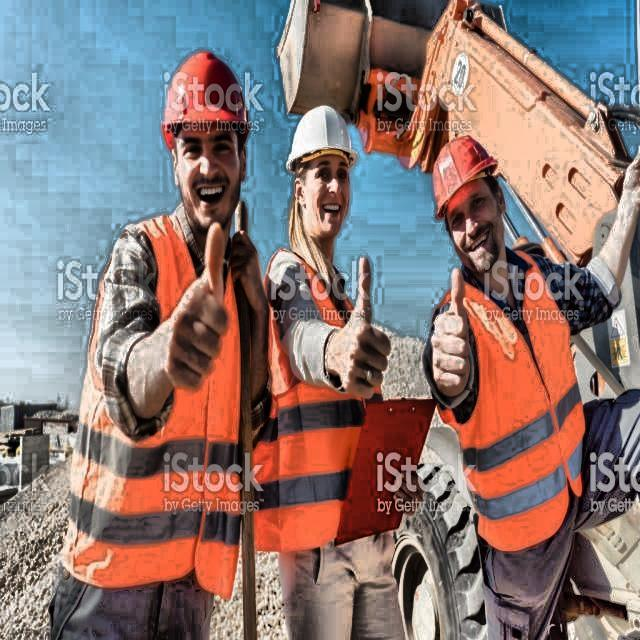person: (424, 128, 620, 640), (284, 102, 410, 640)
